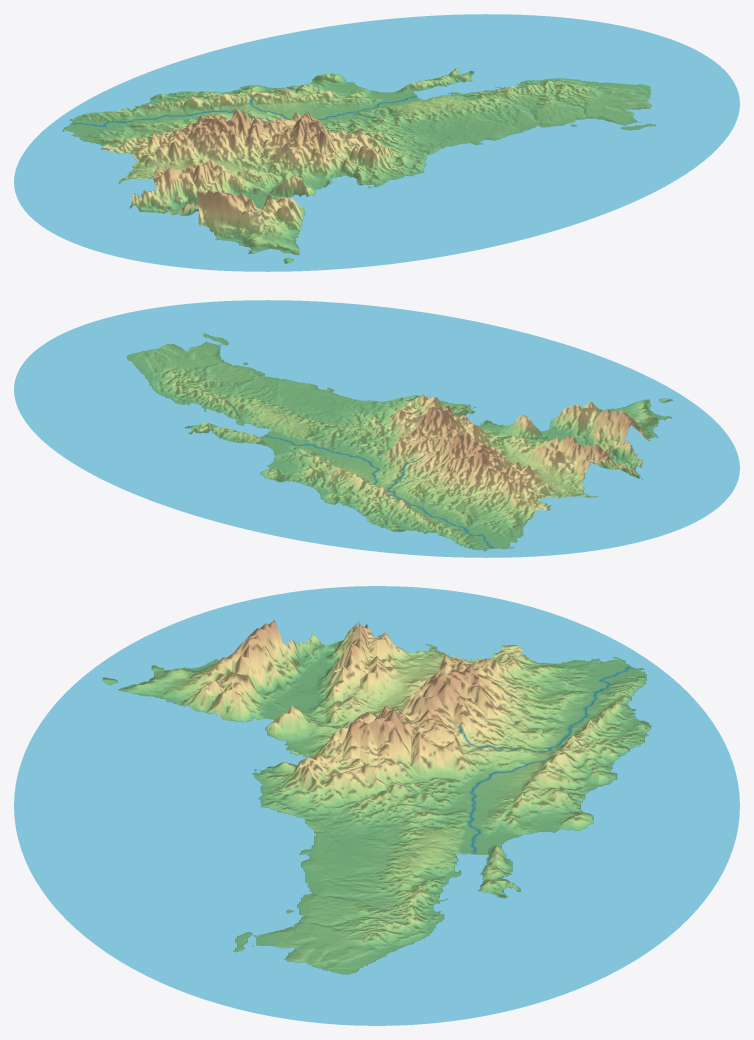
The model's file is DOM-terrain.glb.
3 renders of one model, top to bottom at view 1: azimuth 30°, elevation 25°; view 2: azimuth 150°, elevation 25°; view 3: azimuth 270°, elevation 25°, orthographic. The views are drawn at different scales.
Visible parts, largest first — view 1: Relevo com hidrografia; view 2: Relevo com hidrografia; view 3: Relevo com hidrografia.
Part boxes in pixels (x1,y1,x2,y2): Relevo com hidrografia: (14,14,739,271); Relevo com hidrografia: (14,300,739,557); Relevo com hidrografia: (14,586,739,1025).
Size of the model in its own units: 2.09 by 0.1312 by 1.46.
Materials: 2 (1 with a texture image).
